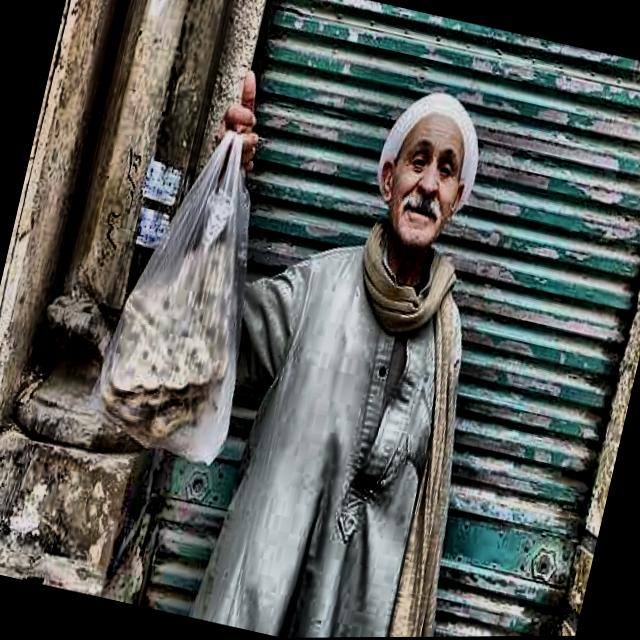Plastic: (77, 127, 310, 492)
